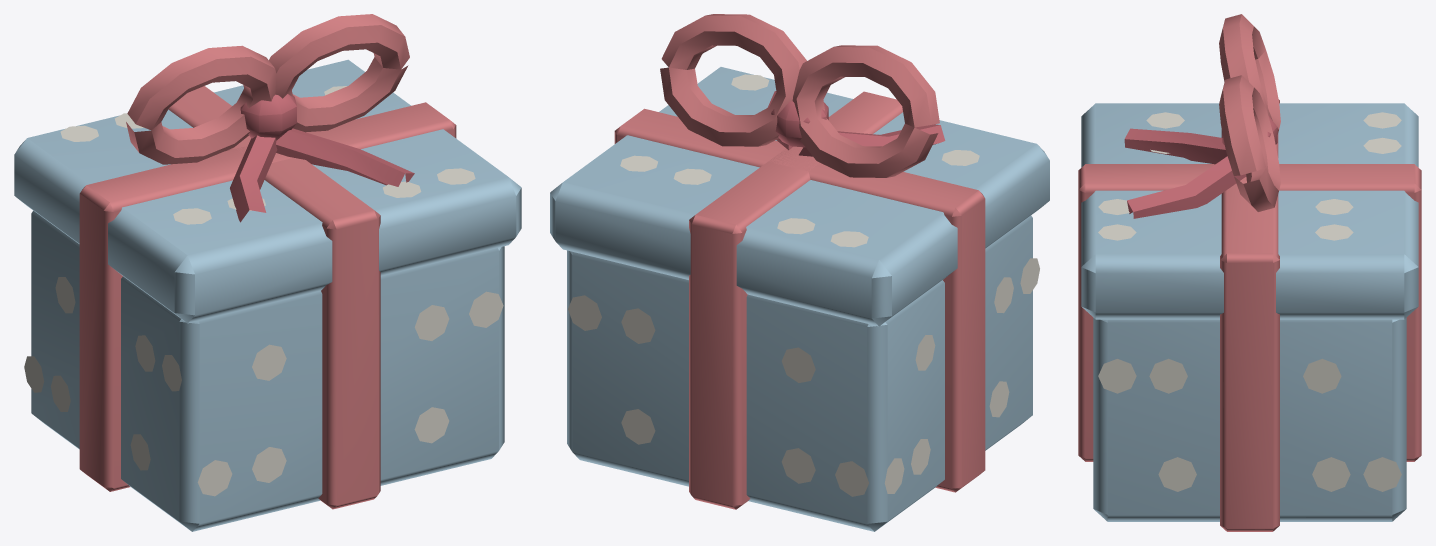
Rendered from parcel.gltf.
3 views of the same model, side by side, from view 1: azimuth 30°, elevation 25°; view 2: azimuth 150°, elevation 25°; view 3: azimuth 270°, elevation 25° (orthographic). The views are drawn at different scales.
Parts seen in each view (by area): view 1: parcel; view 2: parcel; view 3: parcel.
Part boxes in pixels (left/top/right/bottom): parcel: left=14, top=14, right=521, bottom=531; parcel: left=550, top=14, right=1049, bottom=531; parcel: left=1078, top=14, right=1421, bottom=531.
Size of the model in its own units: 0.325 by 0.3644 by 0.285.
